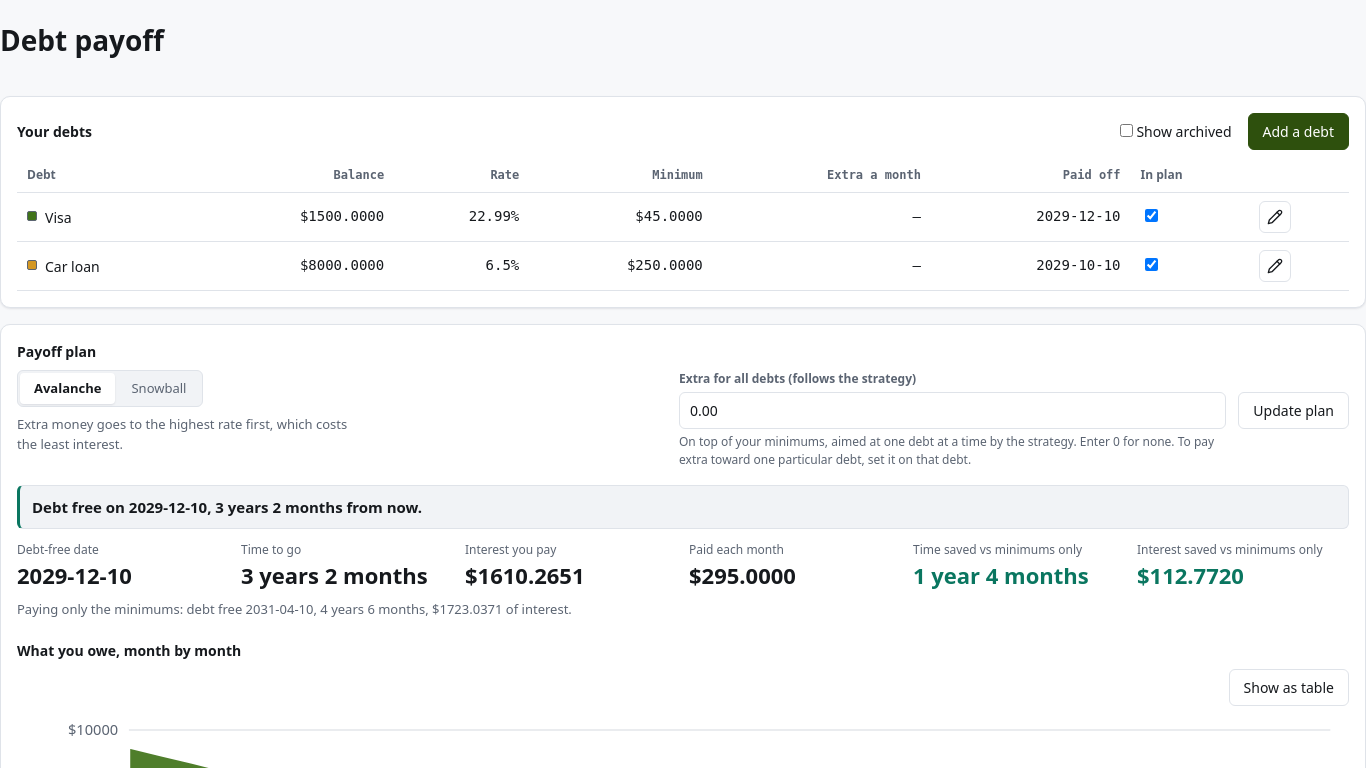
adding and editing a debt › asks once before removing a debt, and keeps it on "Keep it"
Expected: the text "Debt free on 2029-12-10, 3 years 2 months from now." is shown, x1=17 y1=484 x2=1349 y2=529
What coordinates should you click on to do the following:
click the button named "Edit Visa"
I would click on:
 (1275, 216)
Its box is x1=1259 y1=200 x2=1291 y2=232.
(page scrolled)
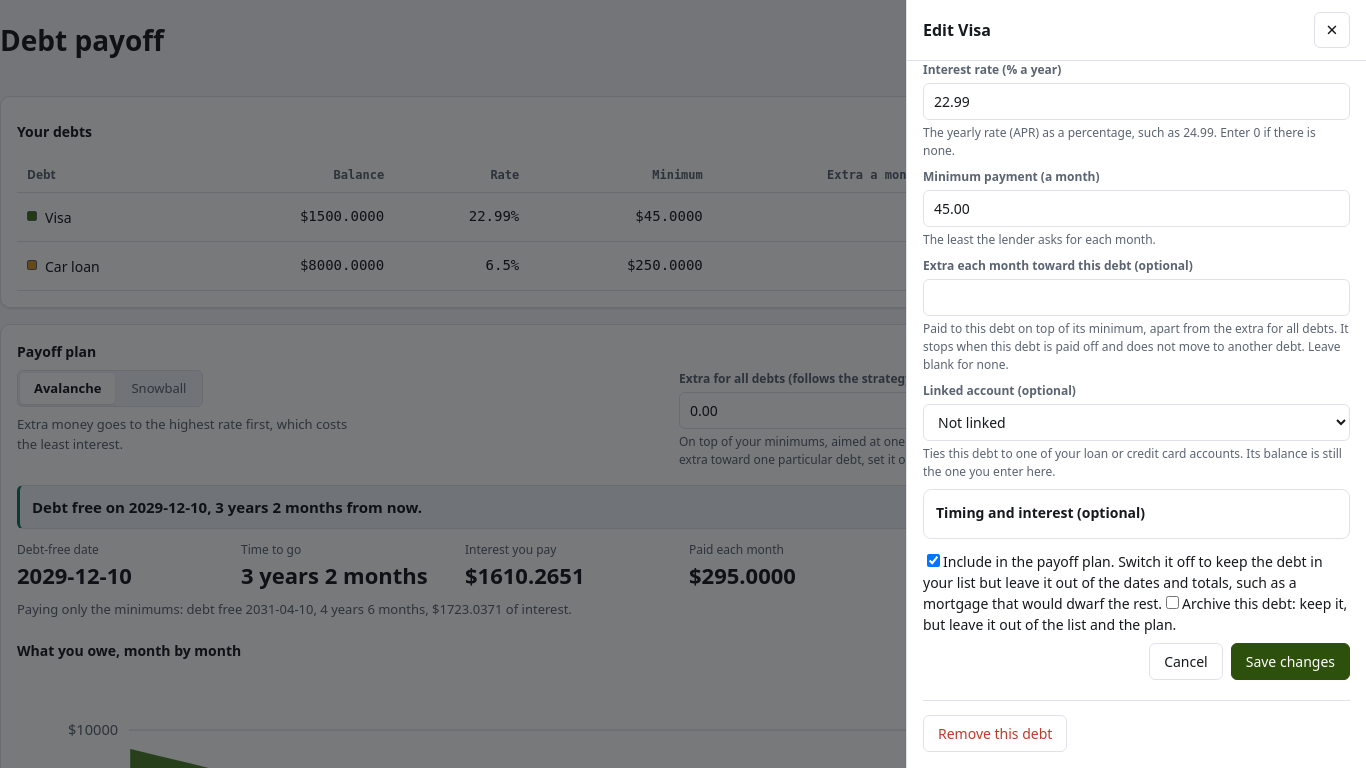
What coordinates should you click on to do the following:
click the button "Remove this debt"
I would click on:
 (995, 734)
Its box is x1=923 y1=715 x2=1067 y2=752.
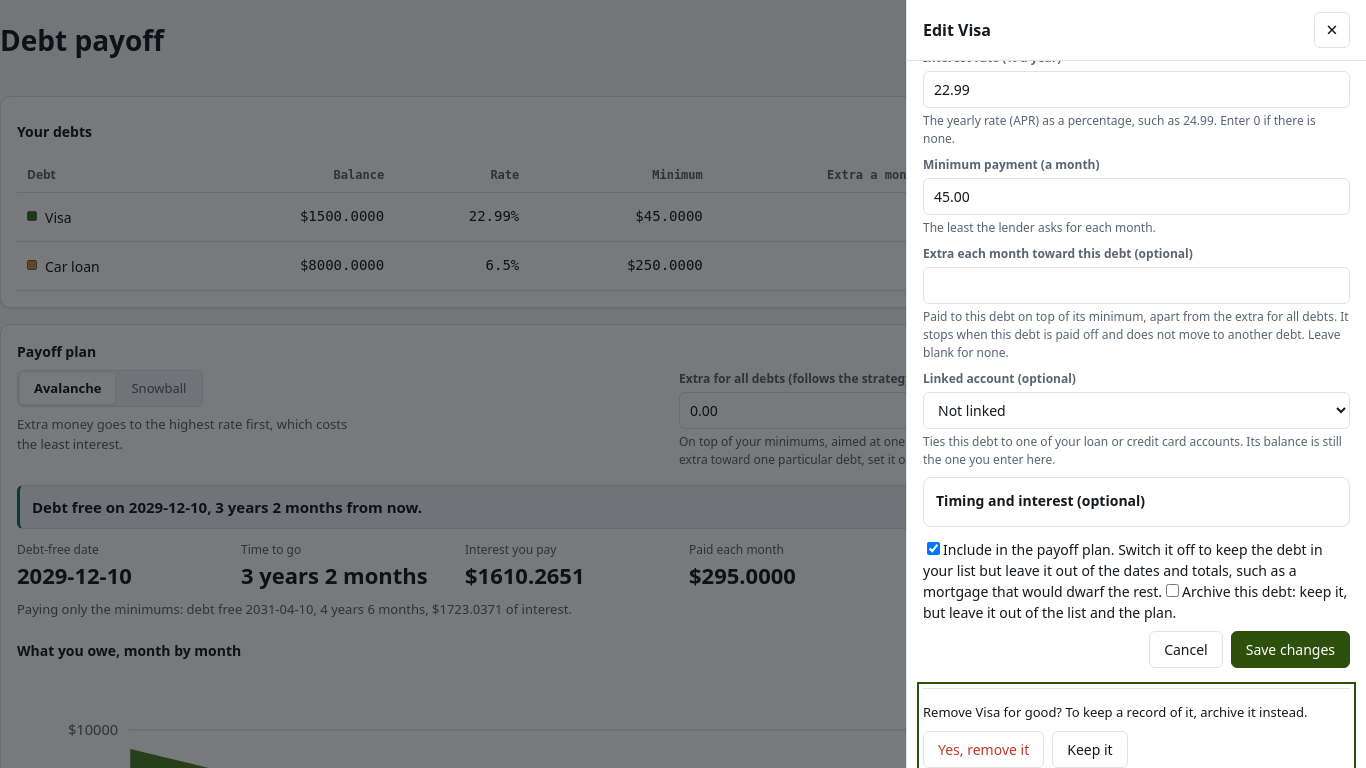
What coordinates should you click on to do the following:
click the button "Keep it"
I would click on:
 (1090, 749)
Its box is x1=1052 y1=730 x2=1128 y2=767.
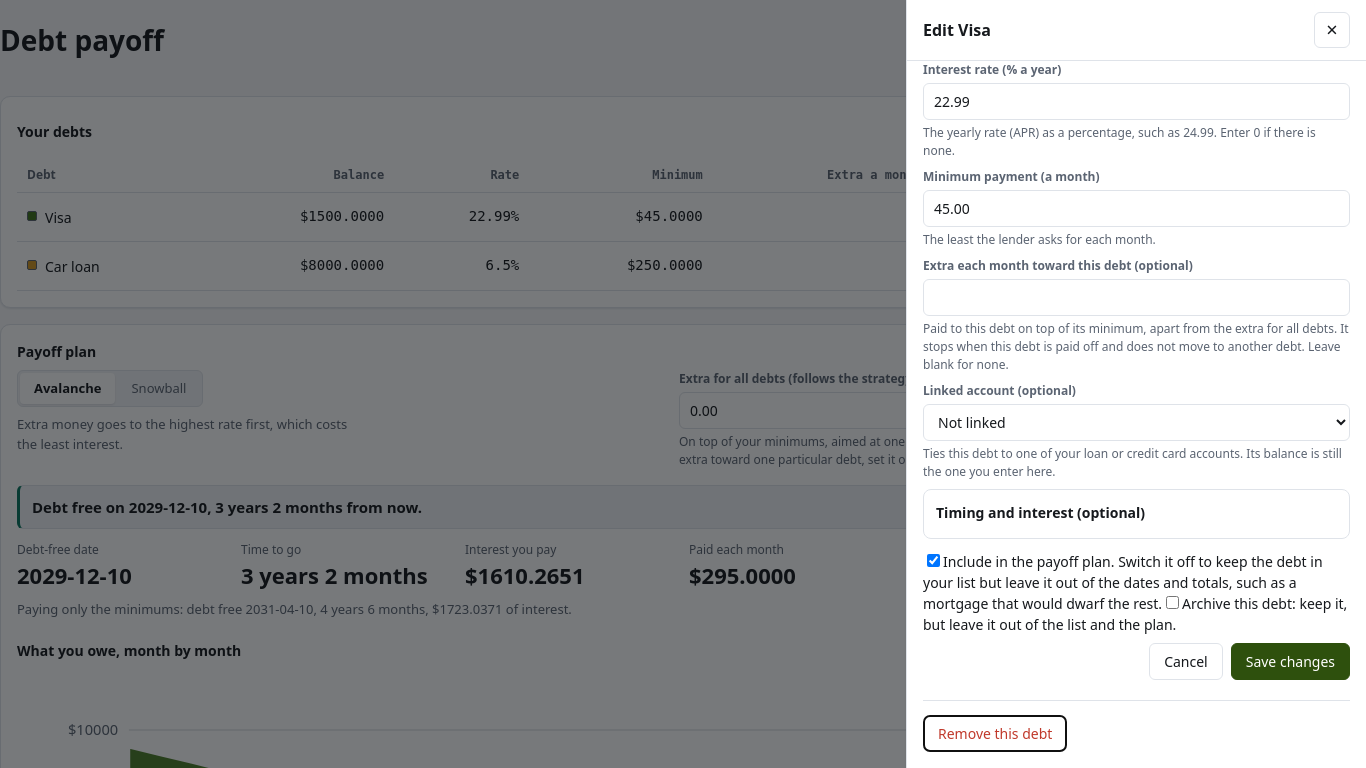
What coordinates should you click on to do the following:
click the button "Remove this debt"
I would click on:
 (995, 734)
Its box is x1=923 y1=715 x2=1067 y2=752.
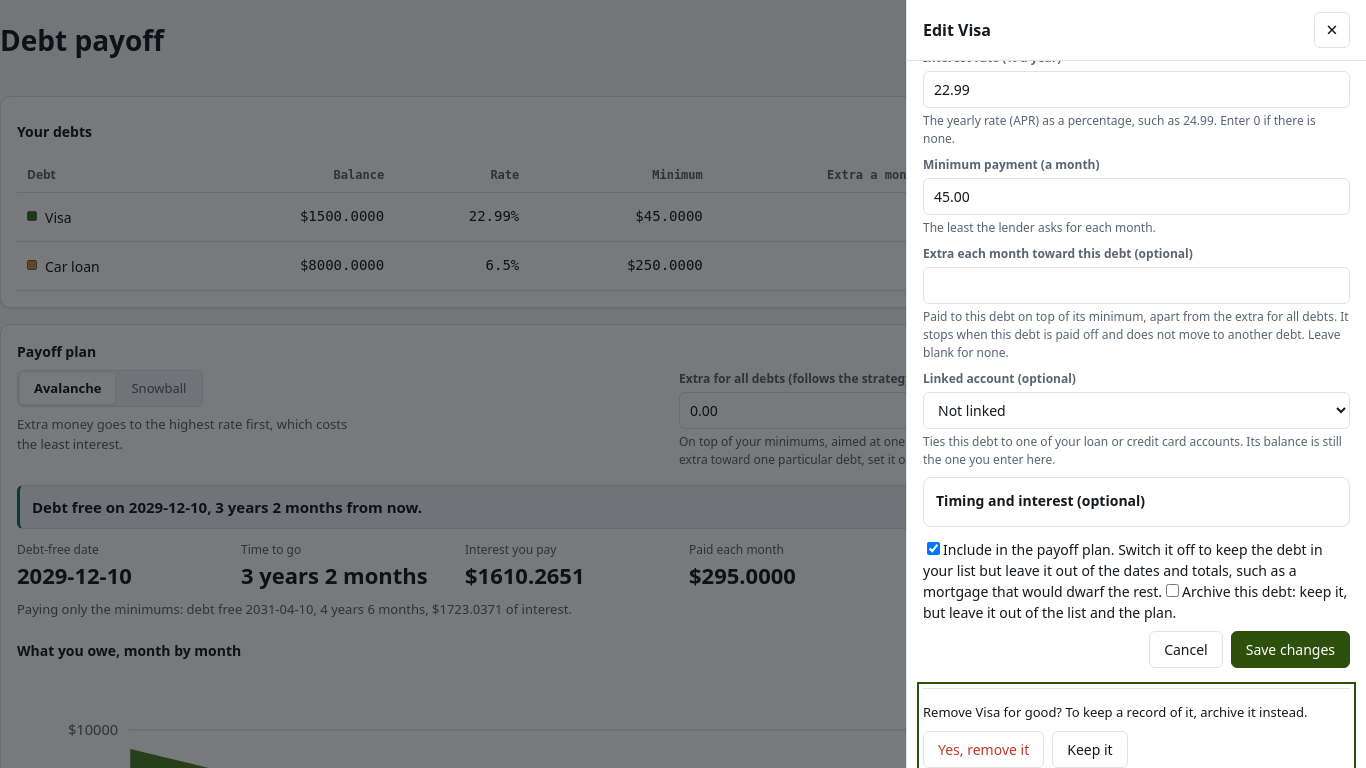
What coordinates should you click on to do the following:
click the button "Yes, remove it"
I would click on:
 (984, 749)
Its box is x1=923 y1=730 x2=1044 y2=767.
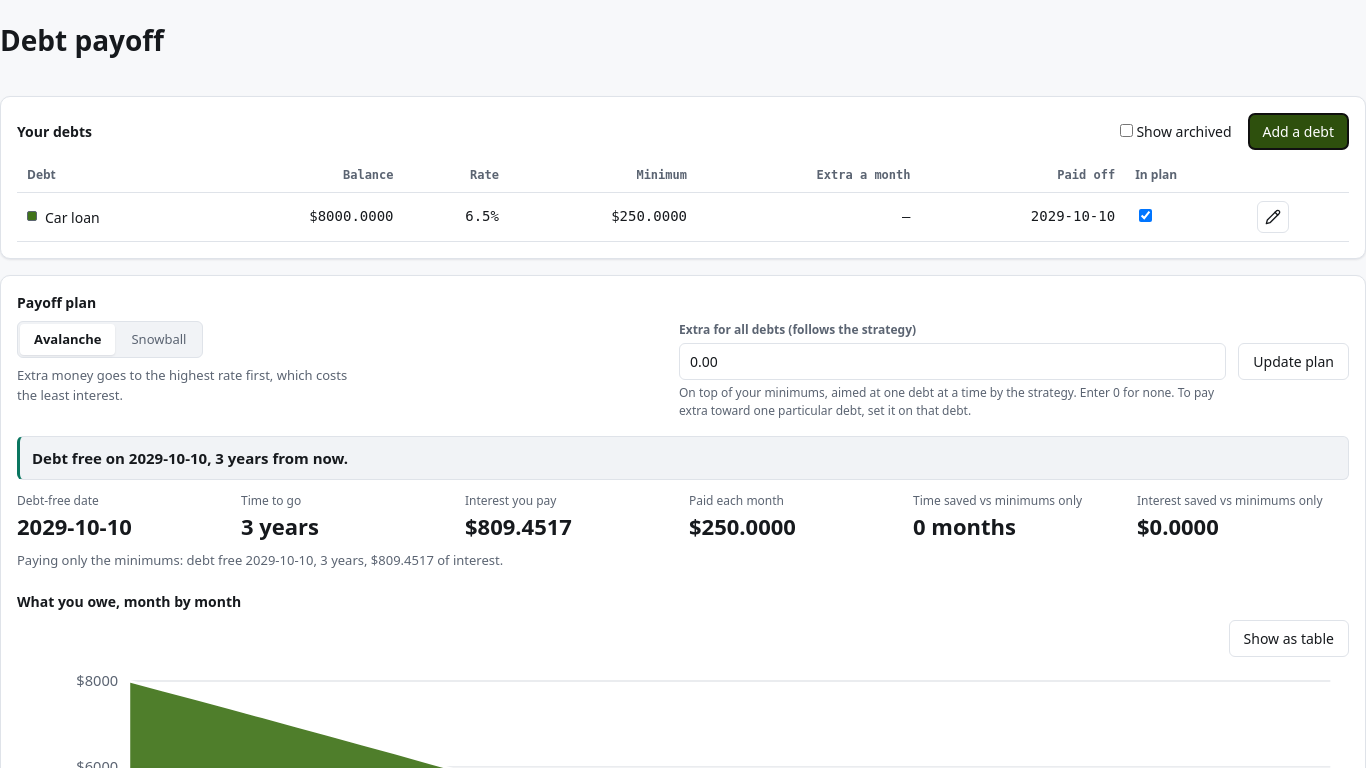
Expected: the dialog is gone
